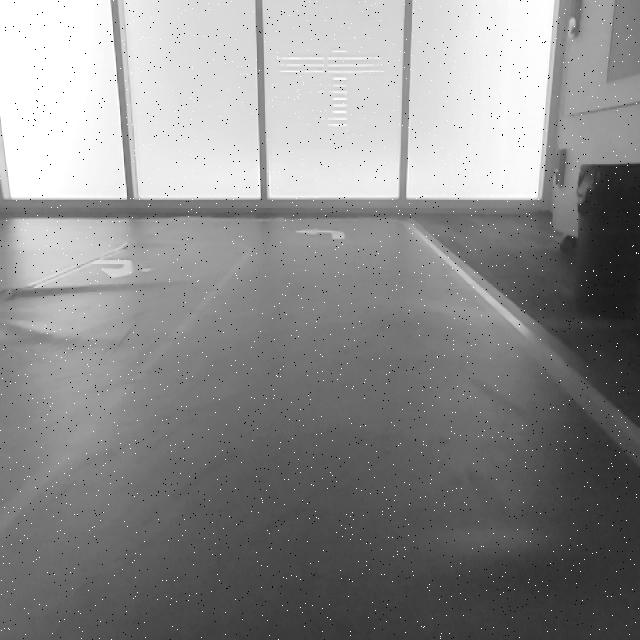left_lane: (0, 246, 256, 536)
right_lane: (407, 224, 640, 472)
